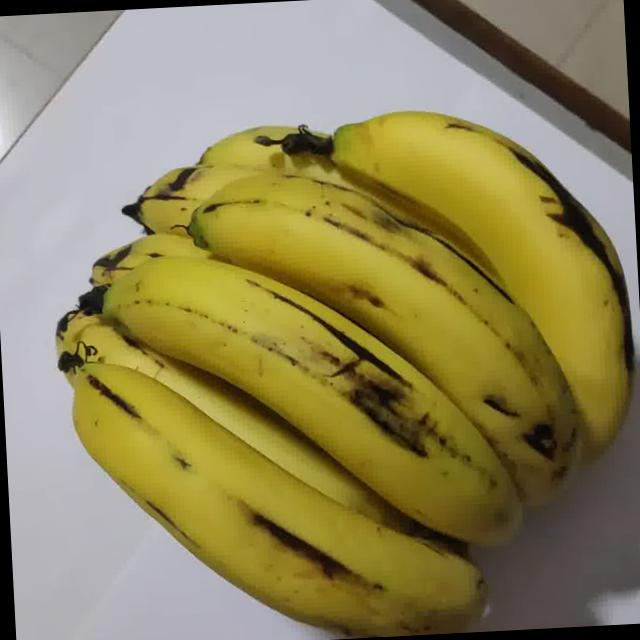banana_pacche: (39, 16, 640, 640)
